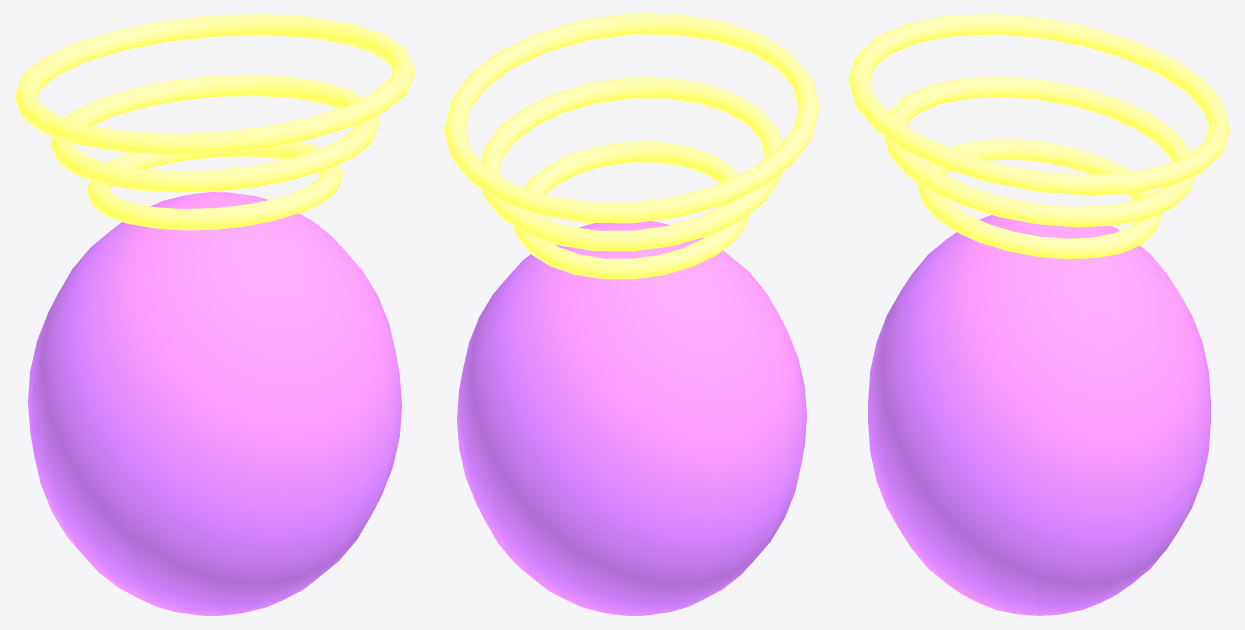
Rendered from boo_stage3.glb.
3 renders of one model, left to right at view 1: azimuth 30°, elevation 25°; view 2: azimuth 150°, elevation 25°; view 3: azimuth 270°, elevation 25°, orthographic. The views are drawn at different scales.
Parts seen in each view (by area): view 1: Body; view 2: Body; view 3: Body.
Boxes of the visible parts, x1=… form: Body: x1=14, y1=14, x2=415, y2=615; Body: x1=444, y1=14, x2=819, y2=615; Body: x1=848, y1=14, x2=1230, y2=615.
Size of the model in its own units: 1.2 by 1.82 by 1.19.
